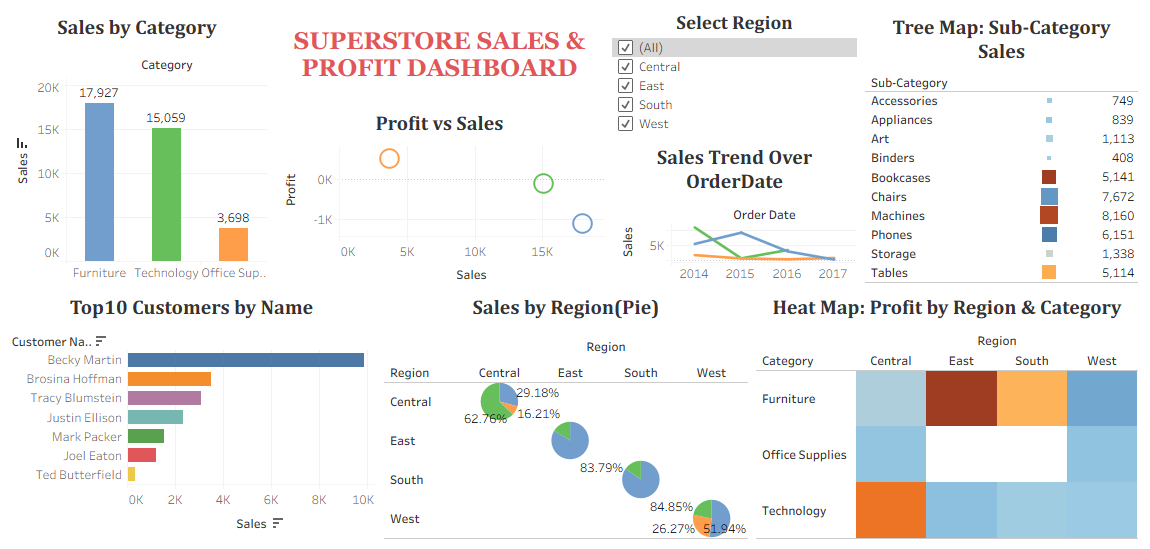

This screenshot's page, from the dashboard's own definition file:
{"tool":"tableau","page":{"name":"Superstore Dashboard","canvas":[1000,1000],"units":"permille","ordinal":0},"visuals":[{"type":"worksheet","title":"Sheet 1","mark":"Automatic","rows":["Sales"],"cols":["Category"],"box":[6.9,14.5,232,507.2]},{"type":"text","box":[238.9,14.5,291.8,173.9]},{"type":"filter","title":"Sheet 3","param":"[federated.0wucjka15ey00l11ldmdf1ii8icr].[none:Region:nk]","box":[530.7,14.5,219,235.5]},{"type":"worksheet","title":"Sheet 8","mark":"Automatic","rows":["Sub-Category"],"box":[749.8,14.5,243.3,507.2]},{"type":"worksheet","title":"Sheet 3","mark":"Automatic","rows":["Profit"],"cols":["Sales"],"box":[238.9,188.4,291.8,333.3]},{"type":"worksheet","title":"Sheet 6","mark":"Line","rows":["Sales"],"cols":["Order Date"],"box":[530.7,250,219,271.7]},{"type":"worksheet","title":"Sheet 7","mark":"Automatic","rows":["Customer Name"],"cols":["Sales"],"box":[6.9,521.7,326.4,463.8]},{"type":"worksheet","title":"Sheet 4","mark":"Pie","rows":["Region"],"cols":["Region"],"box":[333.3,521.7,322.1,463.8]},{"type":"worksheet","title":"Sheet 9","mark":"Automatic","rows":["Category"],"cols":["Region"],"box":[655.4,521.7,337.7,463.8]}]}

Visuals, with their boxes on the dashboard's canvas, which has no fixed pixel size, in thousandths of its width and height (x1, y1, x2, y2). These are canvas units, not pixel positions in the 1150x549 screenshot, which may show the page scaled, cropped or inside an application window:
"Sheet 1" worksheet: left=7, top=14, right=239, bottom=522
text: left=239, top=14, right=531, bottom=188
"Sheet 3" filter: left=531, top=14, right=750, bottom=250
"Sheet 8" worksheet: left=750, top=14, right=993, bottom=522
"Sheet 3" worksheet: left=239, top=188, right=531, bottom=522
"Sheet 6" worksheet (Line marks): left=531, top=250, right=750, bottom=522
"Sheet 7" worksheet: left=7, top=522, right=333, bottom=986
"Sheet 4" worksheet (Pie marks): left=333, top=522, right=655, bottom=986
"Sheet 9" worksheet: left=655, top=522, right=993, bottom=986
